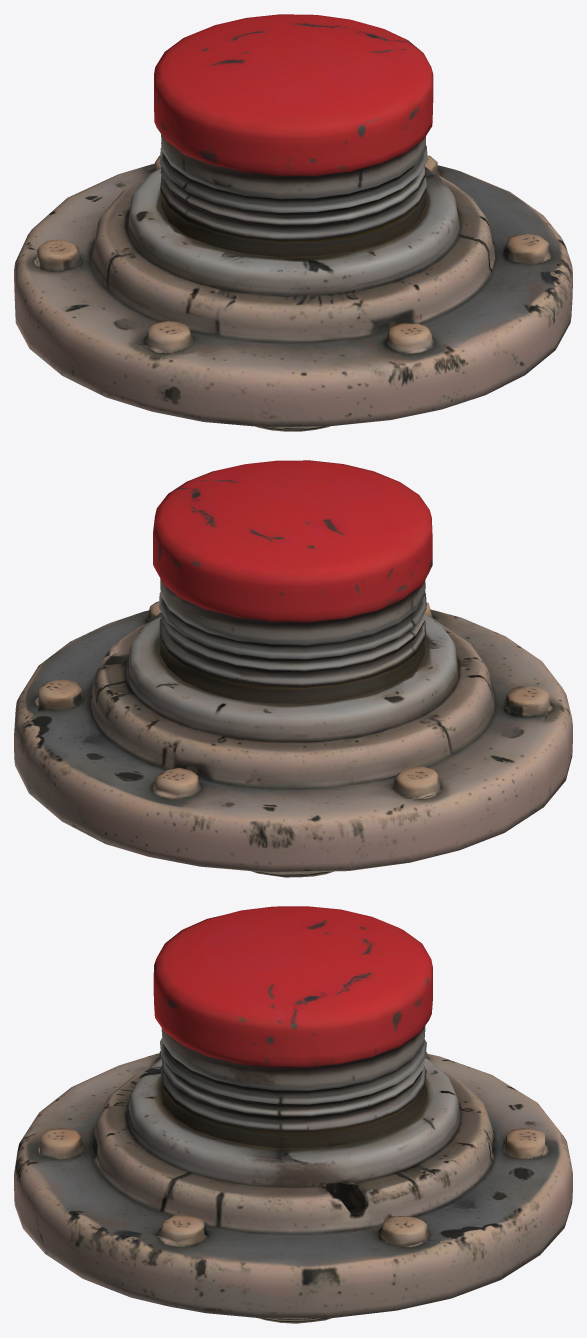
The model's file is buttonExtractionConsole 1.fbx.
3 renders of one model, top to bottom at view 1: azimuth 30°, elevation 25°; view 2: azimuth 150°, elevation 25°; view 3: azimuth 270°, elevation 25°, orthographic.
Visible parts, largest first — view 1: tripo_node_3adfc761, tripo_node_3adfc761.001; view 2: tripo_node_3adfc761, tripo_node_3adfc761.001; view 3: tripo_node_3adfc761, tripo_node_3adfc761.001.
Boxes of the visible parts, left/top/right/bottom form: tripo_node_3adfc761: left=14, top=155, right=572, bottom=431; tripo_node_3adfc761.001: left=154, top=14, right=433, bottom=256; tripo_node_3adfc761: left=14, top=601, right=572, bottom=877; tripo_node_3adfc761.001: left=153, top=460, right=432, bottom=703; tripo_node_3adfc761: left=14, top=1051, right=572, bottom=1323; tripo_node_3adfc761.001: left=153, top=906, right=432, bottom=1148.
Bounding box in the file's own units: 99.54 × 73.01 × 99.93.
